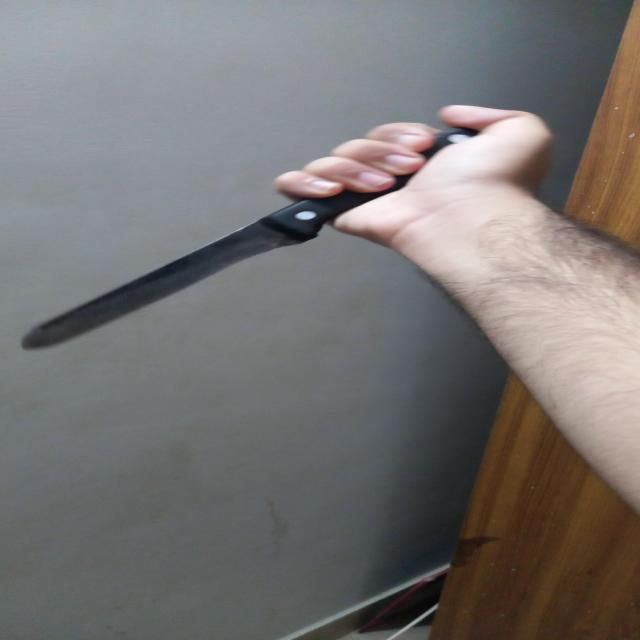faca: (19, 127, 485, 350)
